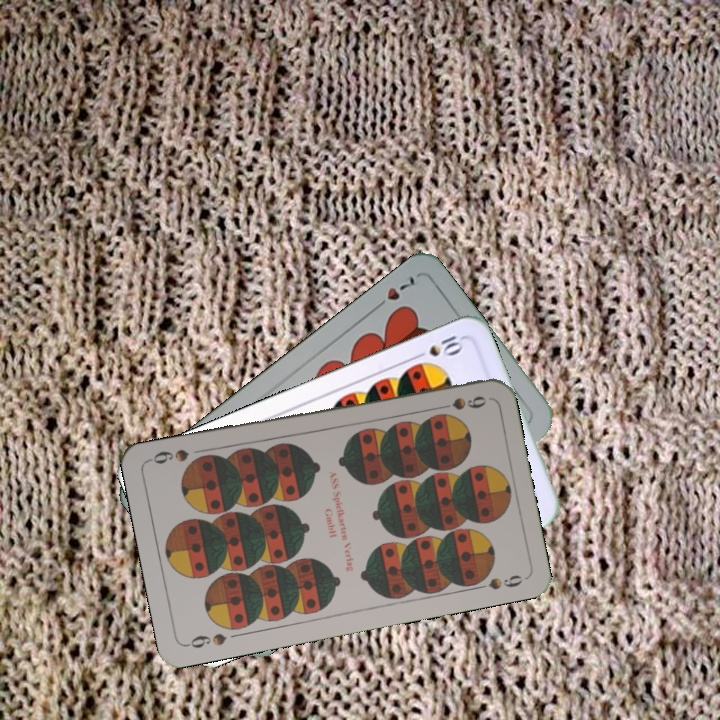H7: (369, 271, 418, 313)
S10: (409, 331, 466, 362)
S9: (431, 392, 489, 413), (182, 629, 229, 651)
